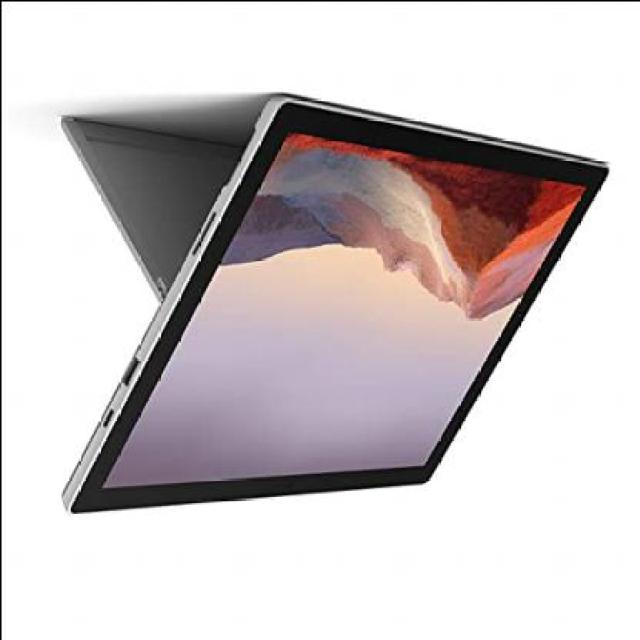tablet: (36, 63, 607, 542)
